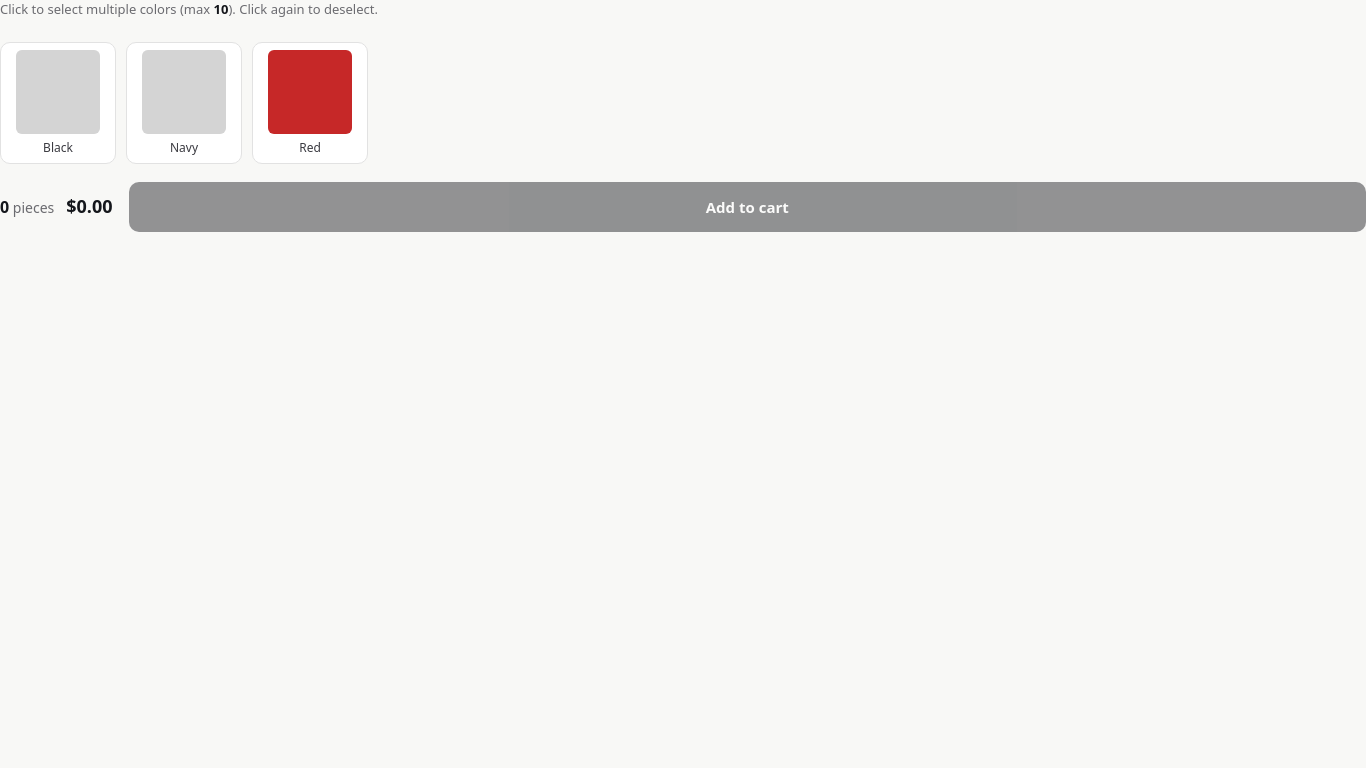
Test case: adding to the cart › adds a guest's quantities to the guest cart at once, reports them, and empties the boxes
Expected: the button "Add to cart" is disabled, 129,182 -> 1365,232
Click the button "Black" at (58, 102), box 0,42 -> 116,164
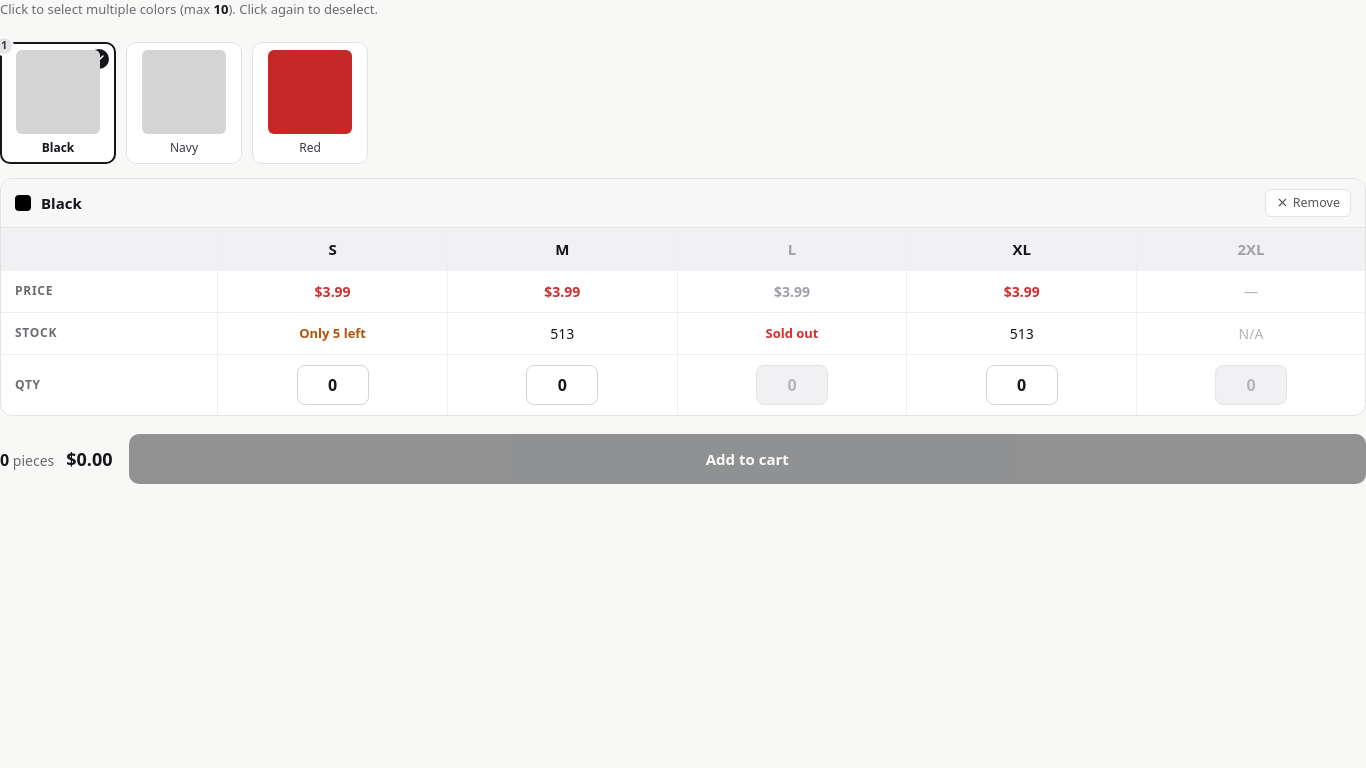
Click the button "Navy" at (184, 102), box 126,42 -> 242,164
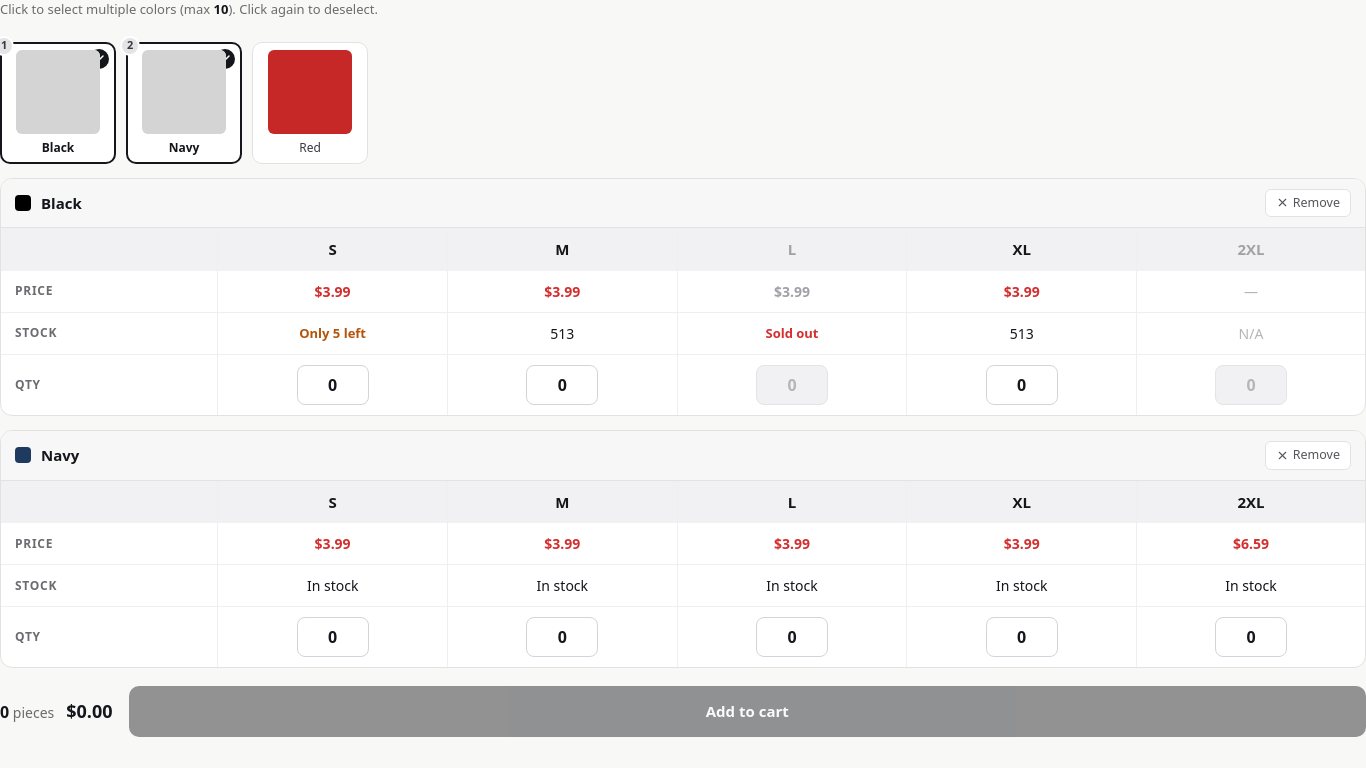
Replace the text in the field named "Black, S: how many" with "3" at (333, 385), box 297,365 -> 369,405
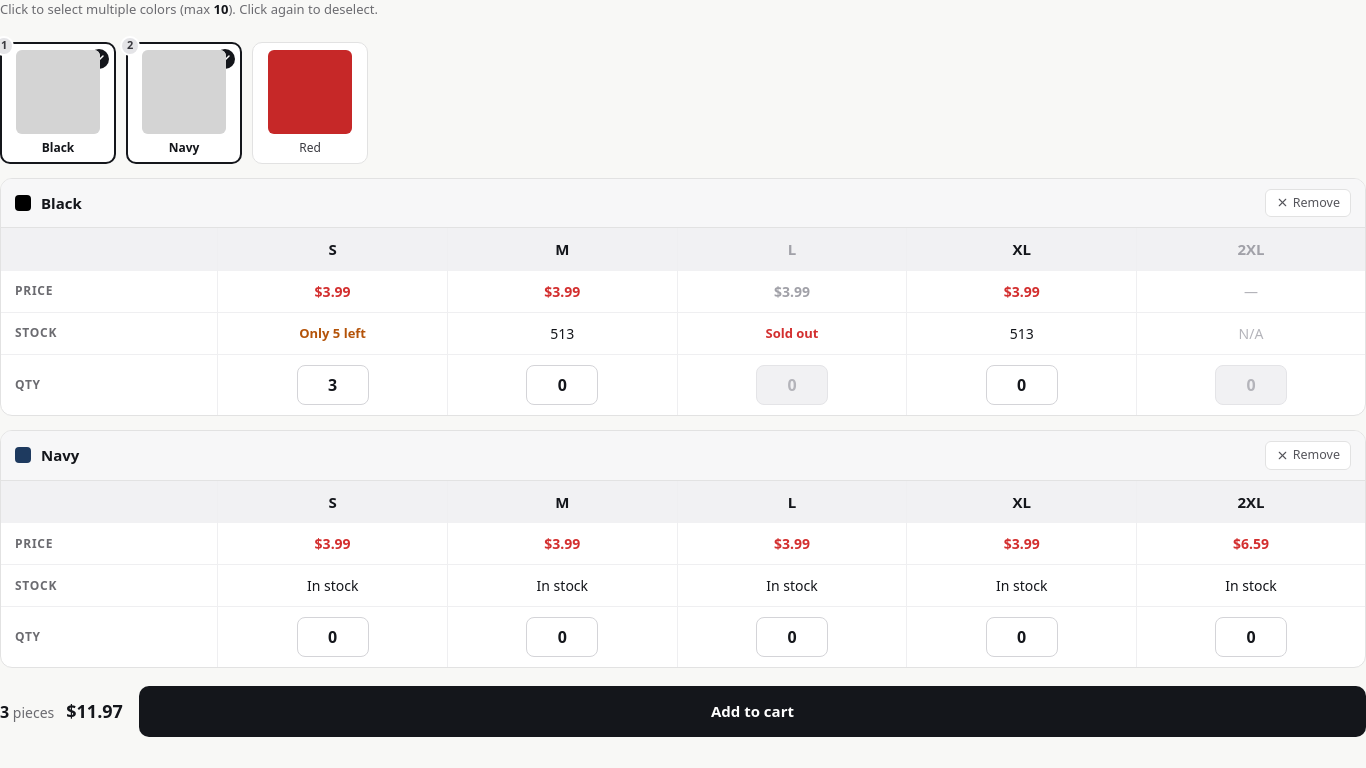
Replace the text in the field named "Black, M: how many" with "12" at (562, 385), box 526,365 -> 598,405
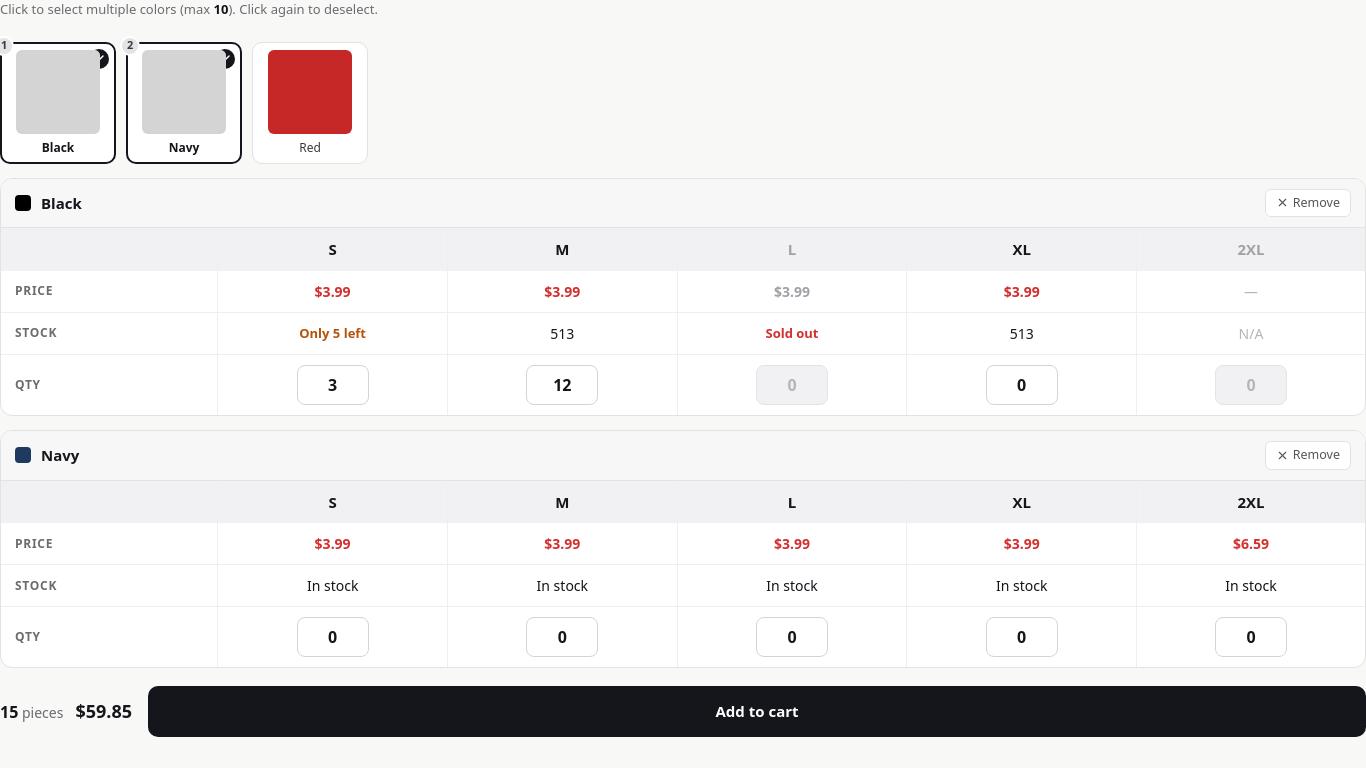
Replace the text in the field named "Navy, 2XL: how many" with "6" at (1251, 637), box 1215,617 -> 1287,657
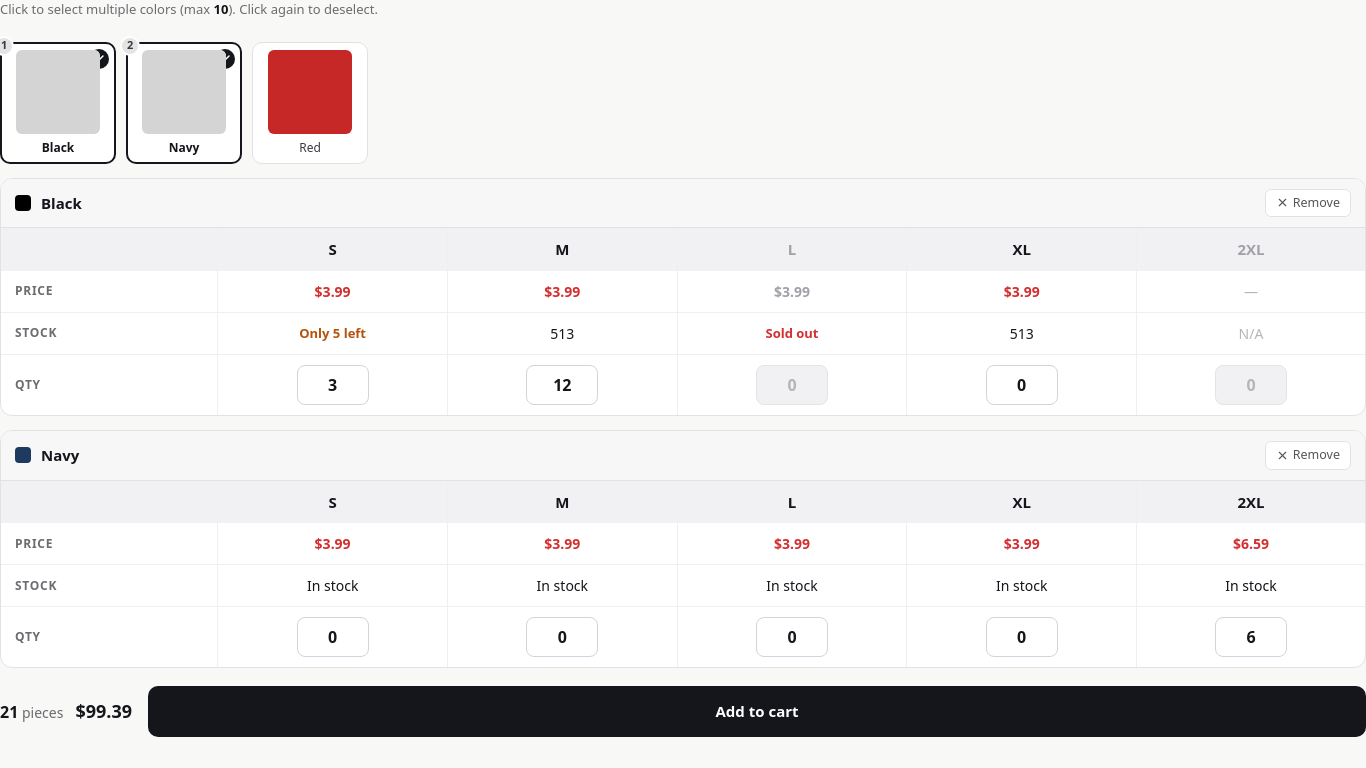
Result: the text "$99.39" is shown at 75,698 -> 132,725
Click the button "Add to cart" at (757, 711), box 148,686 -> 1365,736
(page scrolled)
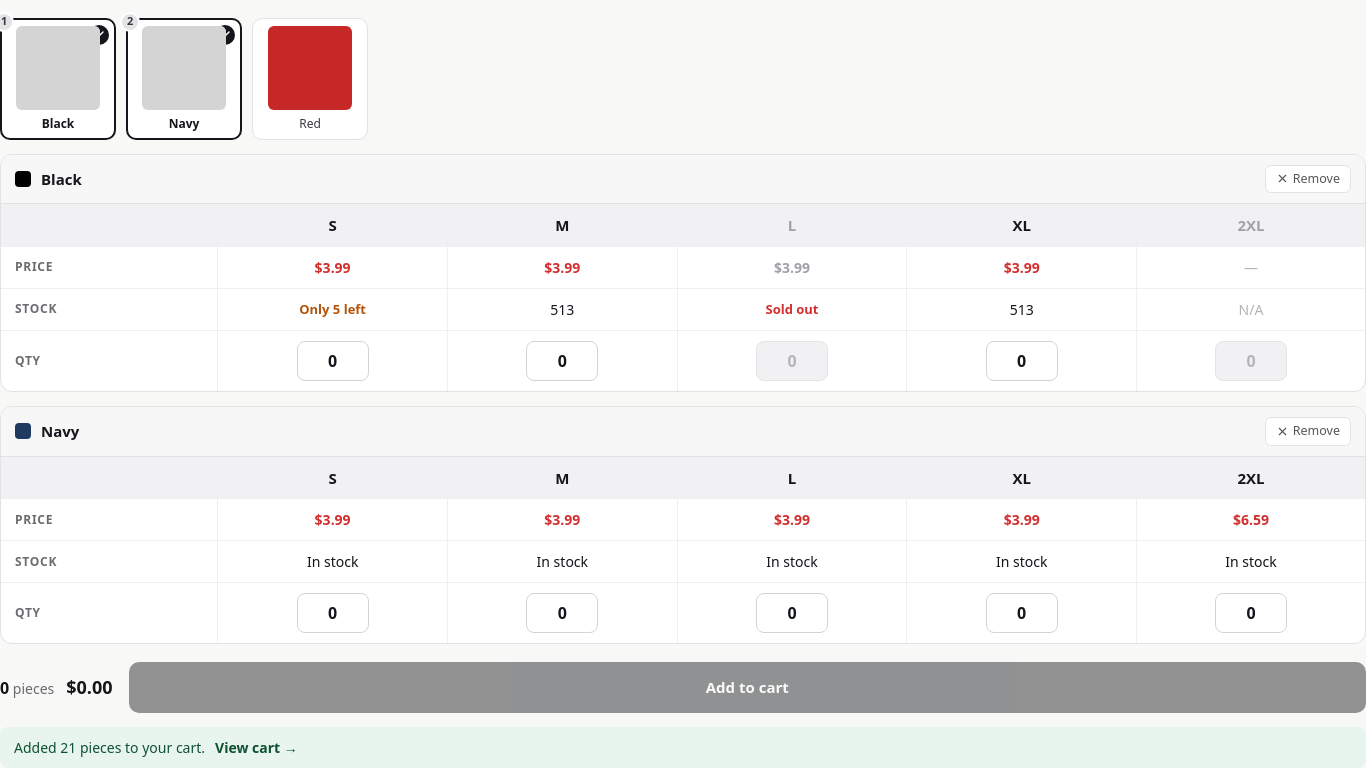
Result: the message shows "Added 21 pieces to your cart." at 14,738 -> 205,756
